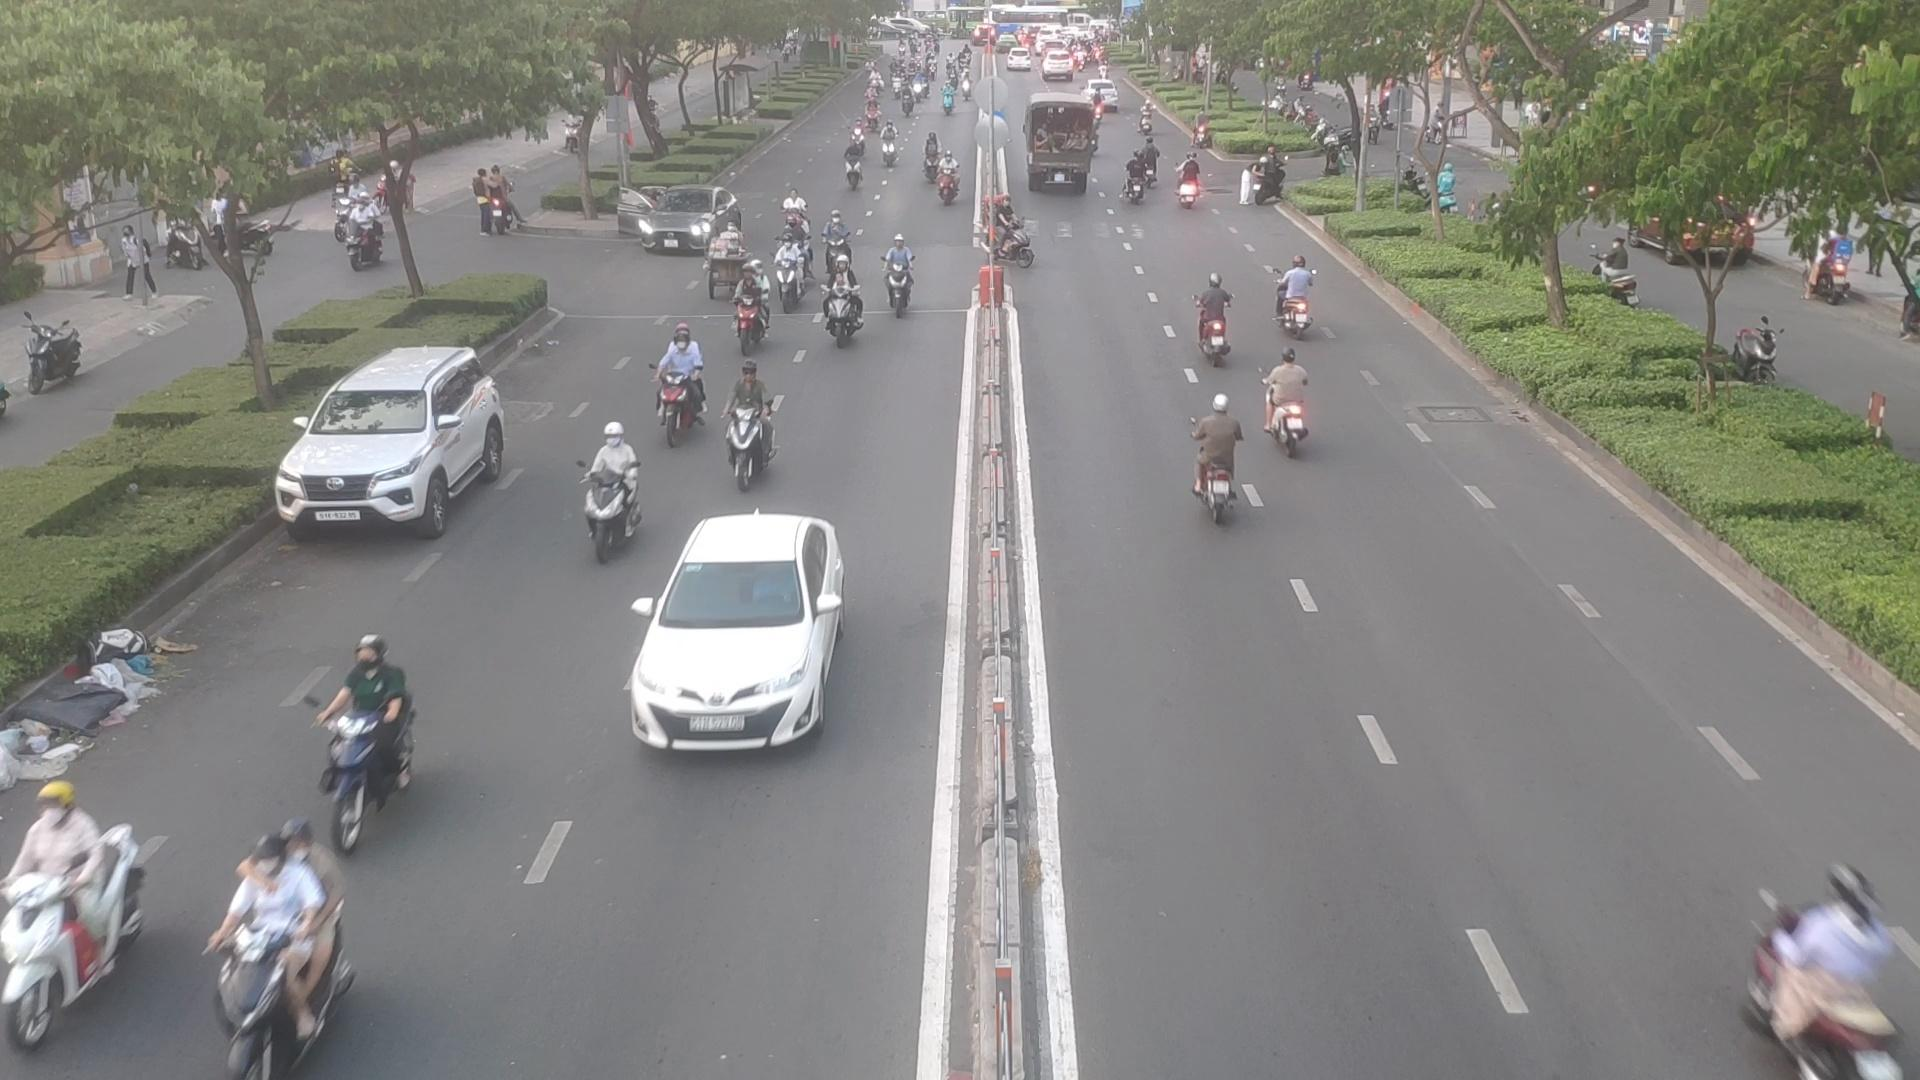car: (624, 514, 855, 753), (272, 345, 512, 535), (616, 187, 735, 255), (1040, 50, 1079, 83), (1087, 76, 1114, 105)
motorbike: (218, 825, 353, 1080), (1750, 860, 1904, 1080), (0, 791, 144, 1026), (328, 637, 411, 816), (584, 425, 640, 556), (1189, 390, 1251, 506), (720, 367, 775, 479), (659, 326, 702, 440), (1266, 345, 1311, 447), (984, 193, 1040, 269), (1197, 266, 1240, 357), (822, 257, 861, 345), (731, 261, 769, 349), (1276, 261, 1316, 334), (773, 237, 804, 311), (886, 225, 913, 310), (1249, 152, 1288, 207), (1171, 157, 1207, 214), (837, 135, 870, 190), (1124, 152, 1150, 204), (823, 214, 847, 270), (938, 150, 959, 210), (920, 133, 943, 181), (877, 121, 897, 169), (862, 94, 884, 131), (1139, 96, 1153, 127)
